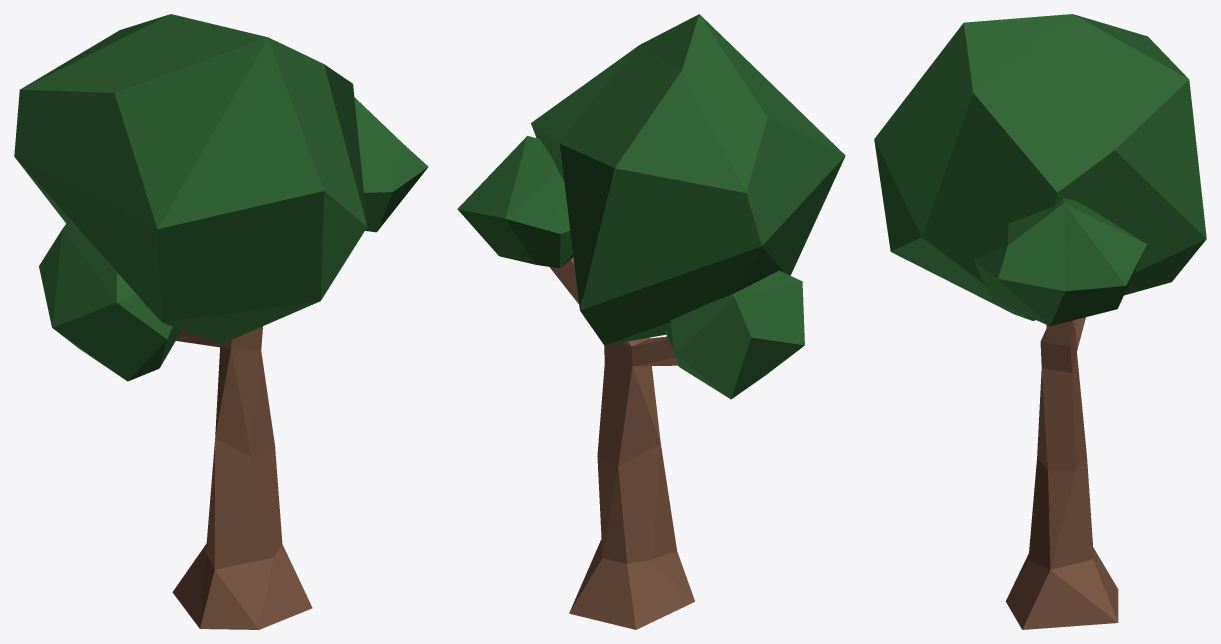
File: pohon2.fbx
The picture shows the model from 3 angles, left to right: view 1: azimuth 30°, elevation 25°; view 2: azimuth 150°, elevation 25°; view 3: azimuth 270°, elevation 25°; orthographic projection. The views are drawn at different scales.
Visible parts, largest first — view 1: Cube.050, Cube.047, Cube.049, Cube.048; view 2: Cube.050, Cube.047, Cube.049, Cube.048; view 3: Cube.050, Cube.047, Cube.048.
Boxes of the visible parts, x1,y1,x2,y2 form: Cube.050: [14, 14, 367, 344]; Cube.047: [172, 326, 312, 629]; Cube.049: [39, 224, 181, 381]; Cube.048: [354, 97, 428, 232]; Cube.050: [531, 14, 845, 345]; Cube.047: [549, 257, 694, 629]; Cube.049: [666, 270, 804, 399]; Cube.048: [457, 136, 573, 268]; Cube.050: [874, 14, 1206, 320]; Cube.047: [1006, 317, 1118, 629]; Cube.048: [973, 198, 1146, 326].
Size of the model in its own units: 374 by 635 by 334.
